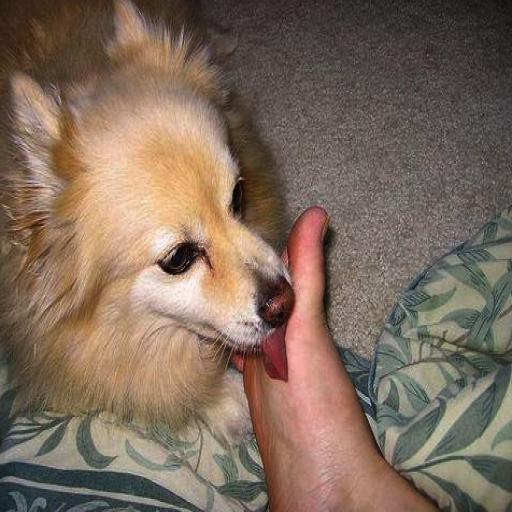dog_face: (20, 16, 285, 359)
